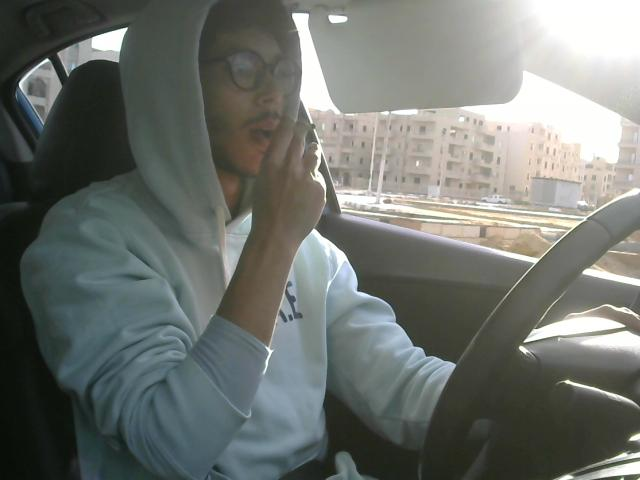Smoking: (280, 118, 317, 138)
